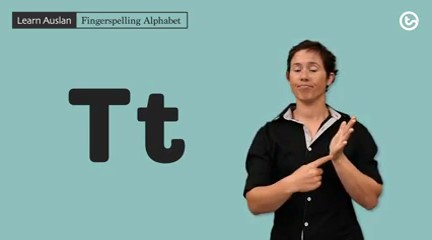T: (285, 113, 363, 197)
